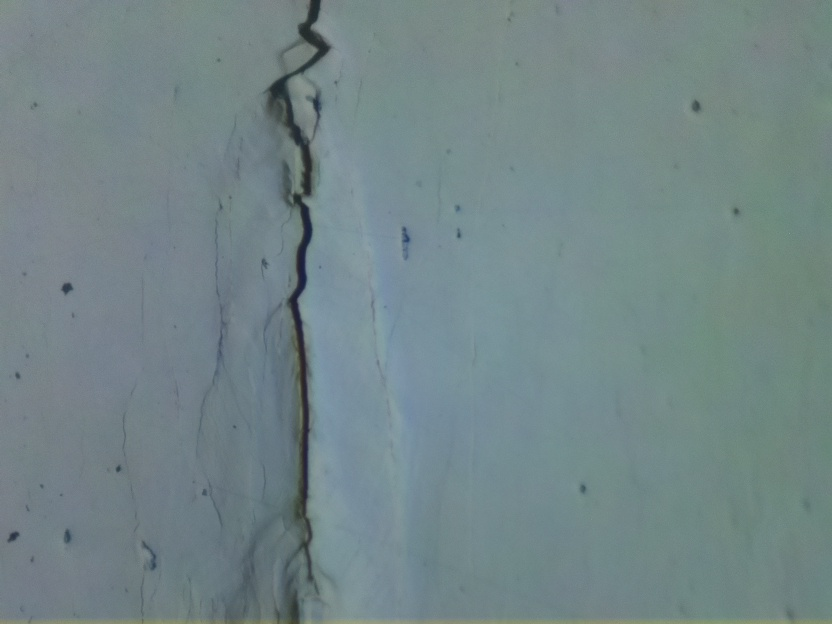crack: (260, 0, 332, 608)
